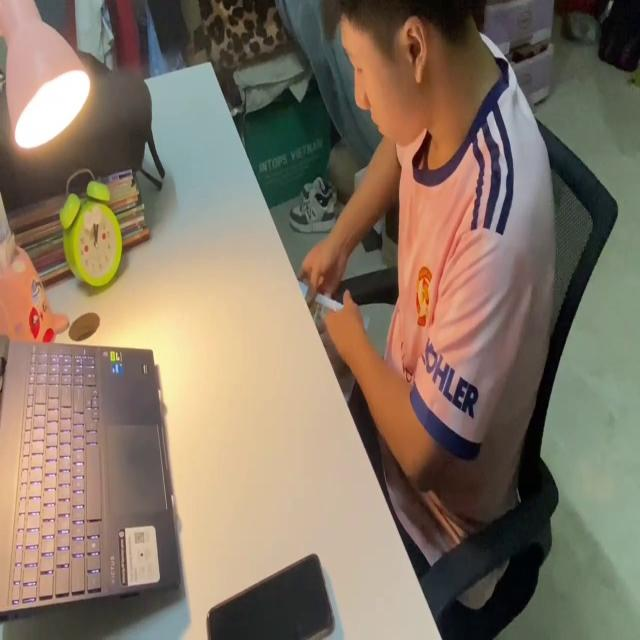book: (292, 264, 370, 415)
laptop: (0, 324, 184, 612)
phone: (208, 532, 338, 640)
student: (286, 0, 552, 566)
